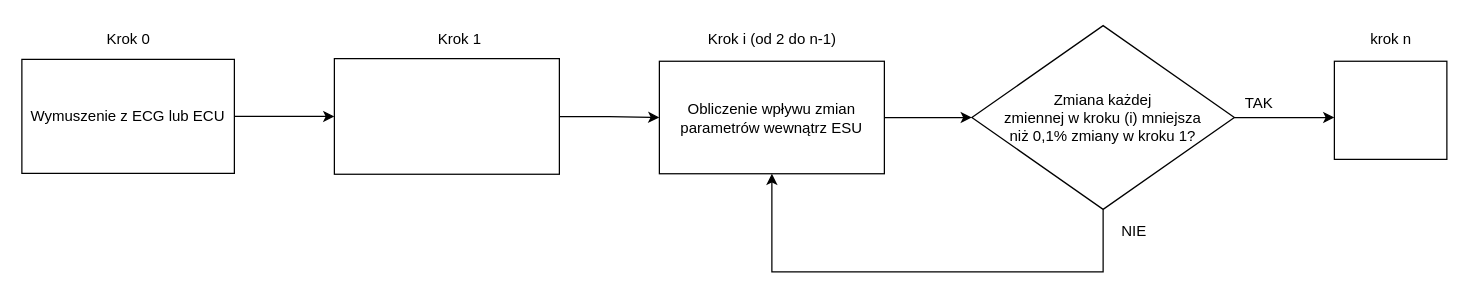
Image size: 1478x305. Some labels were removed from this diagram. Each missing label, with the centre of its shape:
Następny krok czasowy: point (1390, 109)
Obliczenie wpływu wymuszenia na ESU: point (446, 115)
